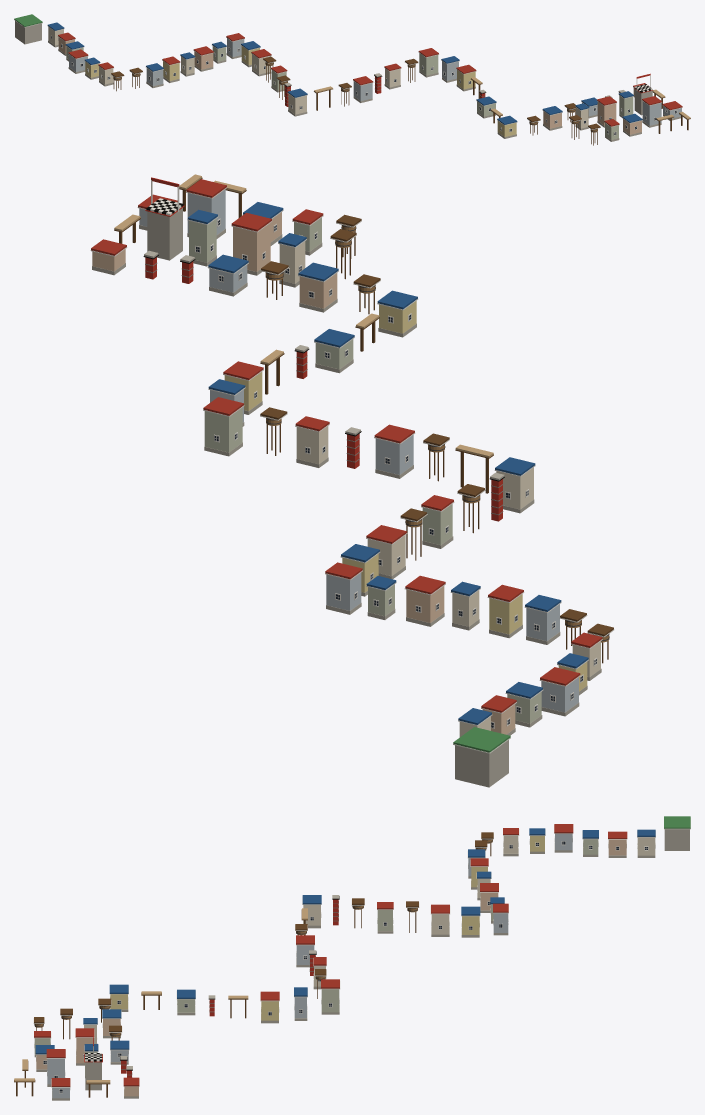
The model's file is telhados.glb.
3 renders of one model, top to bottom at view 1: azimuth 30°, elevation 25°; view 2: azimuth 150°, elevation 25°; view 3: azimuth 270°, elevation 25°, orthographic. The views are drawn at different scales.
Parts seen in each view (by area): view 1: map_stone.001, map_wall_3.001, map_roof_red.001, map_roof_blue.001, map_wall_0.001, map_wood_dark.001, map_wall_2.001, map_trim.001, map_wall_1.001, map_wall_4.001, map_wood_light.001, map_glass.001 (+4 smaller); view 2: map_stone.001, map_roof_red.001, map_roof_blue.001, map_wall_3.001, map_wall_2.001, map_wall_0.001, map_wood_dark.001, map_wall_1.001, map_trim.001, map_wall_4.001, map_bh_red.001, map_wood_light.001 (+2 smaller); view 3: map_roof_red.001, map_stone.001, map_roof_blue.001, map_wall_3.001, map_trim.001, map_wood_dark.001, map_wall_0.001, map_wall_2.001, map_wall_4.001, map_wall_1.001, map_bh_red.001, map_wood_light.001.
Boxes of the visible parts, <box> form: map_stone.001: <box>15,21,680,141</box>; map_wall_3.001: <box>69,38,681,125</box>; map_roof_red.001: <box>58,32,682,126</box>; map_roof_blue.001: <box>47,22,642,124</box>; map_wall_0.001: <box>48,27,588,128</box>; map_wood_dark.001: <box>111,56,690,145</box>; map_wall_2.001: <box>66,46,633,139</box>; map_trim.001: <box>47,25,682,135</box>; map_wall_1.001: <box>58,37,641,134</box>; map_wall_4.001: <box>85,46,516,136</box>; map_wood_light.001: <box>314,77,690,120</box>; map_glass.001: <box>51,36,676,134</box>; map_stone.001: <box>92,208,601,787</box>; map_roof_red.001: <box>91,179,602,712</box>; map_roof_blue.001: <box>187,202,588,724</box>; map_wall_3.001: <box>139,189,578,712</box>; map_wall_2.001: <box>189,217,541,723</box>; map_wall_0.001: <box>279,241,600,737</box>; map_wood_dark.001: <box>114,177,613,663</box>; map_wall_1.001: <box>92,212,515,734</box>; map_trim.001: <box>90,187,602,728</box>; map_wall_4.001: <box>224,301,587,691</box>; map_bh_red.001: <box>145,177,502,521</box>; map_wood_light.001: <box>114,174,493,457</box>; map_roof_red.001: <box>34,824,627,1086</box>; map_stone.001: <box>34,829,689,1100</box>; map_roof_blue.001: <box>35,828,655,1054</box>; map_wall_3.001: <box>47,833,572,1098</box>; map_trim.001: <box>34,825,655,1093</box>; map_wood_dark.001: <box>14,832,493,1097</box>; map_wall_0.001: <box>84,835,655,1043</box>; map_wall_2.001: <box>34,839,598,1075</box>; map_wall_4.001: <box>110,836,544,1020</box>; map_wall_1.001: <box>36,839,626,1096</box>; map_bh_red.001: <box>84,899,338,1077</box>; map_wood_light.001: <box>14,908,307,1083</box>.
Bounding box in the file's own units: 141 × 11.65 × 155.
